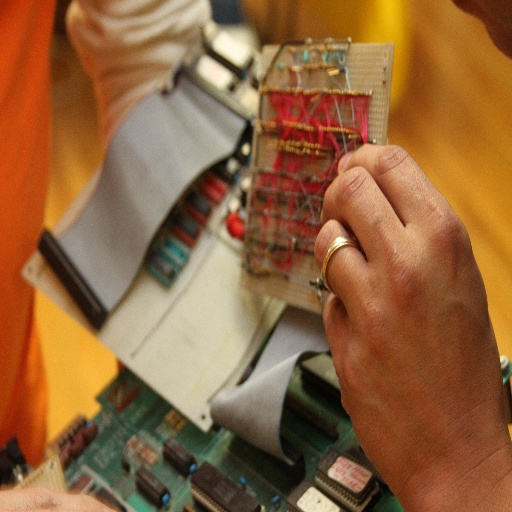hand: (293, 99, 485, 477), (0, 485, 117, 511)
